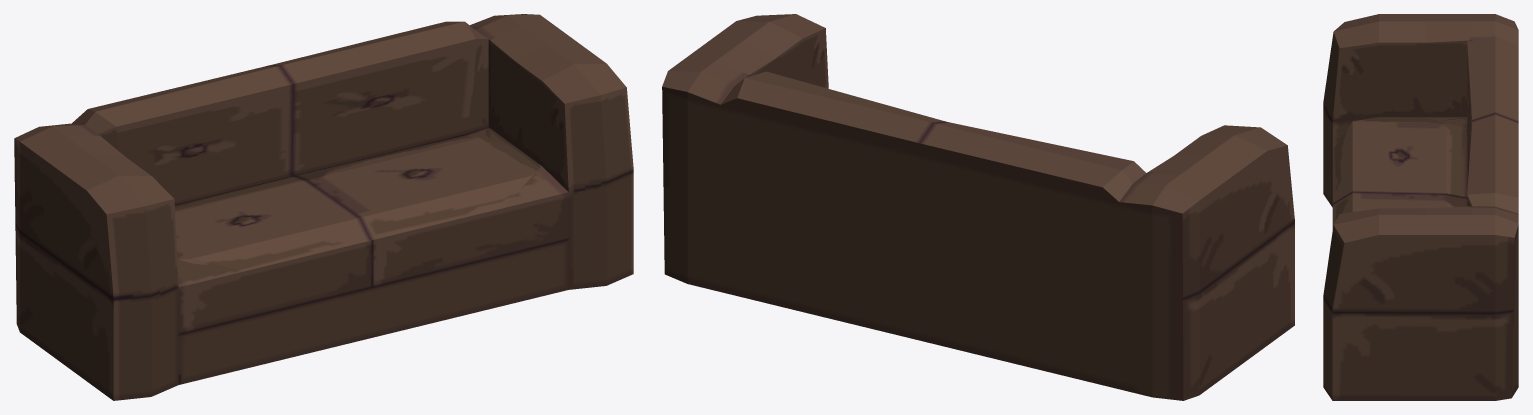
The model's file is chouch.fbx.
3 renders of one model, left to right at view 1: azimuth 30°, elevation 25°; view 2: azimuth 150°, elevation 25°; view 3: azimuth 270°, elevation 25°, orthographic. The views are drawn at different scales.
Visible parts, largest first — view 1: Chouch; view 2: Chouch; view 3: Chouch.
Boxes of the visible parts, x1,y1,x2,y2 form: Chouch: [14, 14, 633, 400]; Chouch: [662, 14, 1294, 400]; Chouch: [1323, 14, 1518, 400].
Bounding box in the file's own units: 2990 × 1117 × 1118.
